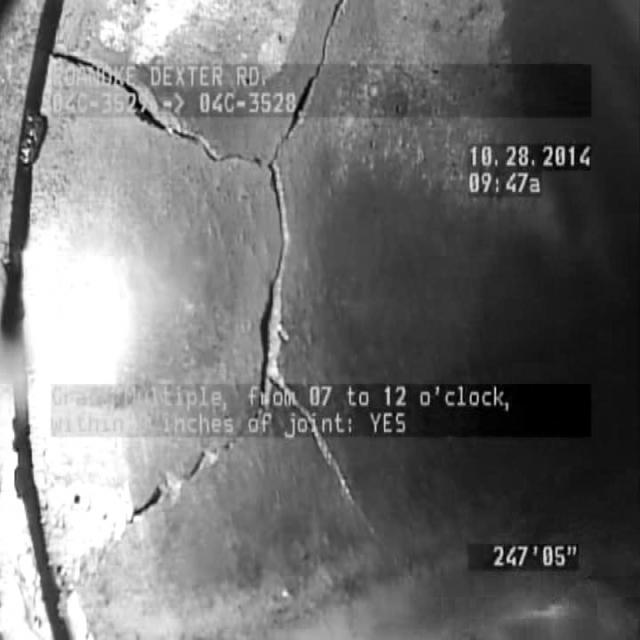Crack: (70, 16, 356, 386), (86, 388, 362, 538)
